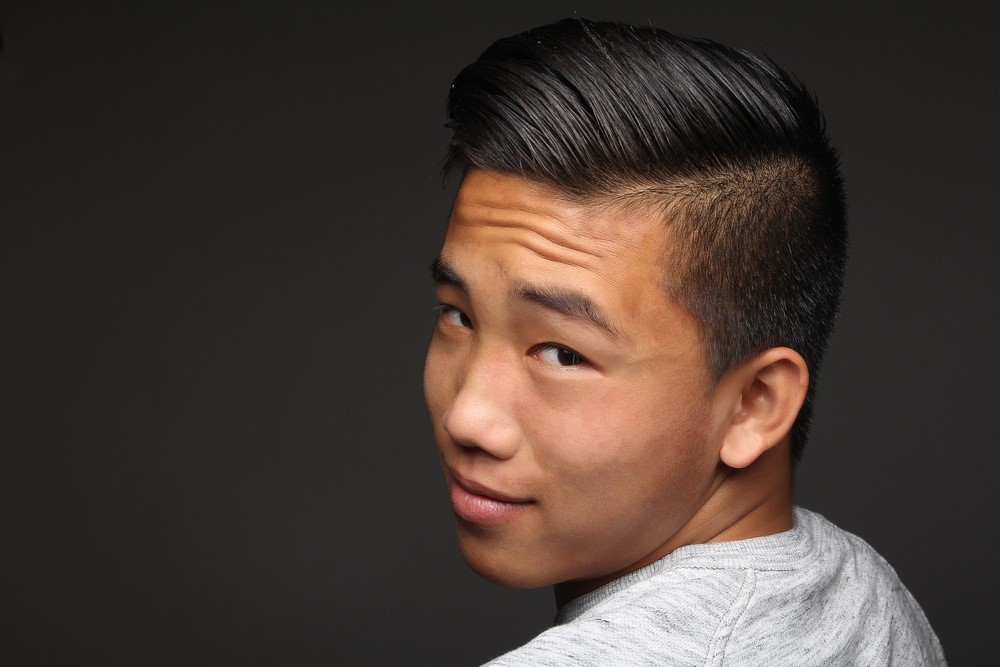face_no_mask: (419, 35, 845, 589)
